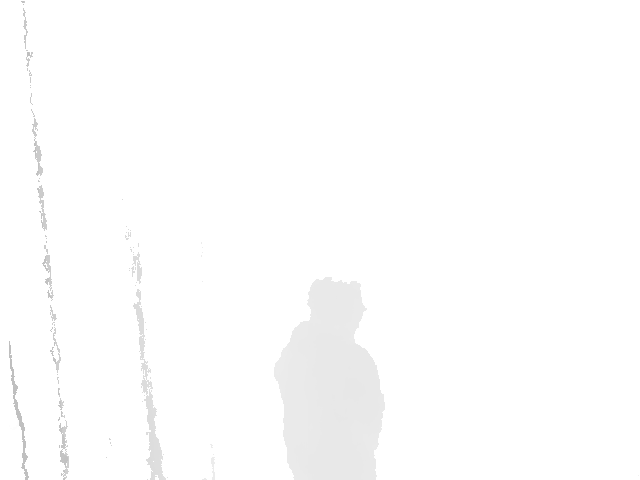head: (308, 278, 367, 343)
person: (273, 278, 385, 480)
